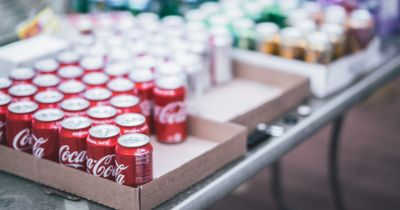Can: (10, 86, 158, 197)
